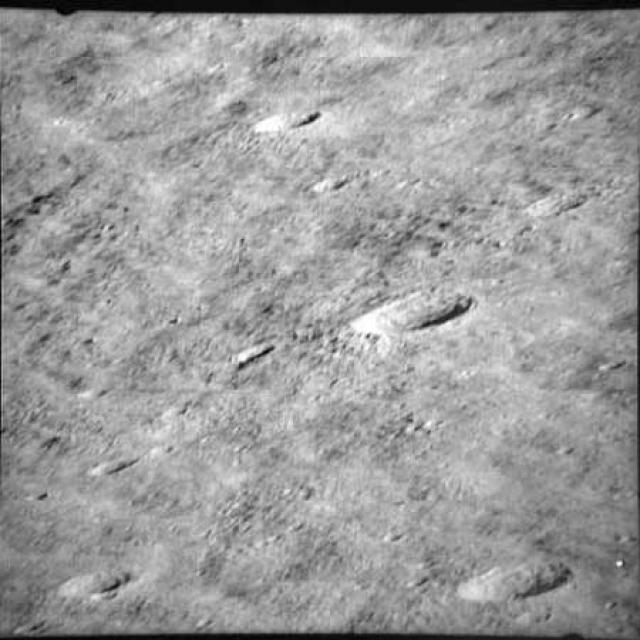crater: (450, 547, 574, 608), (348, 287, 482, 343), (60, 556, 146, 607), (245, 102, 338, 146), (84, 435, 158, 480), (228, 331, 278, 376)
